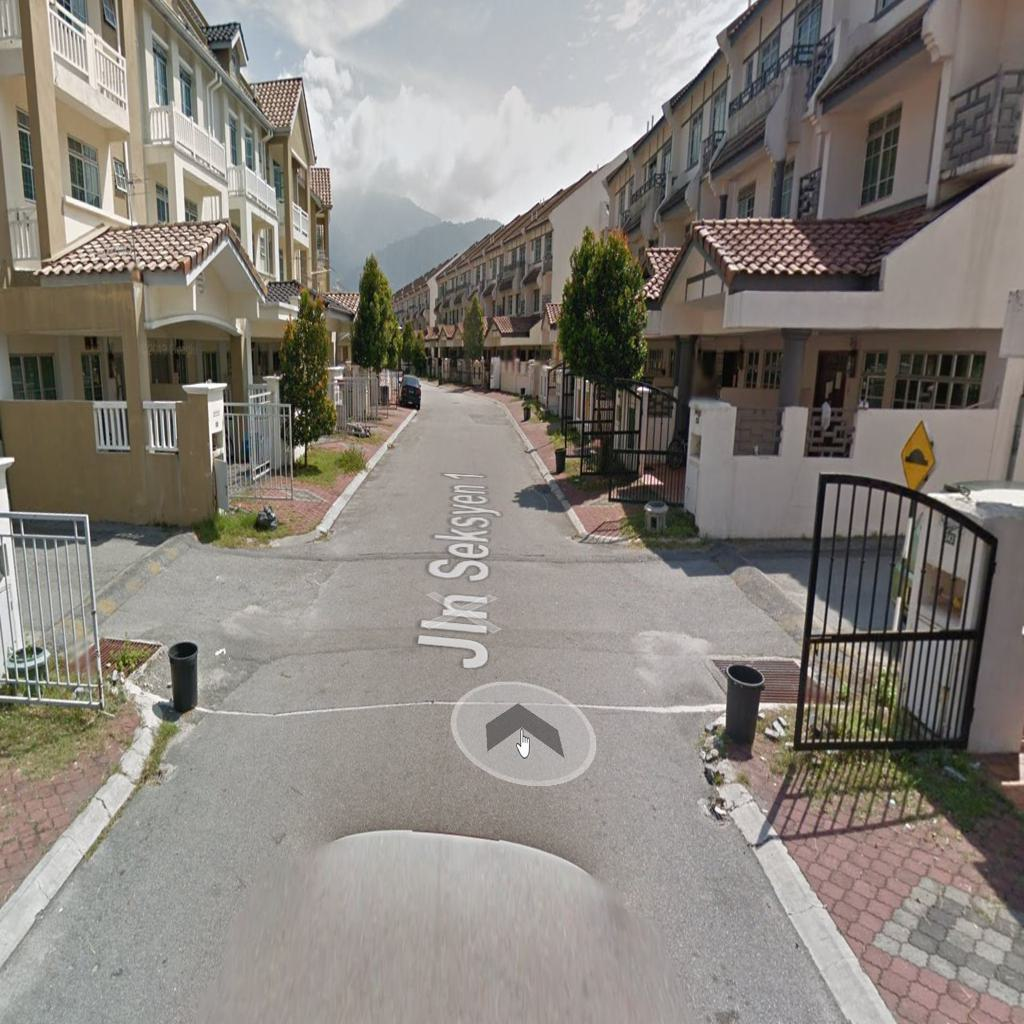Junction: (12, 480, 377, 751), (569, 492, 875, 770)
